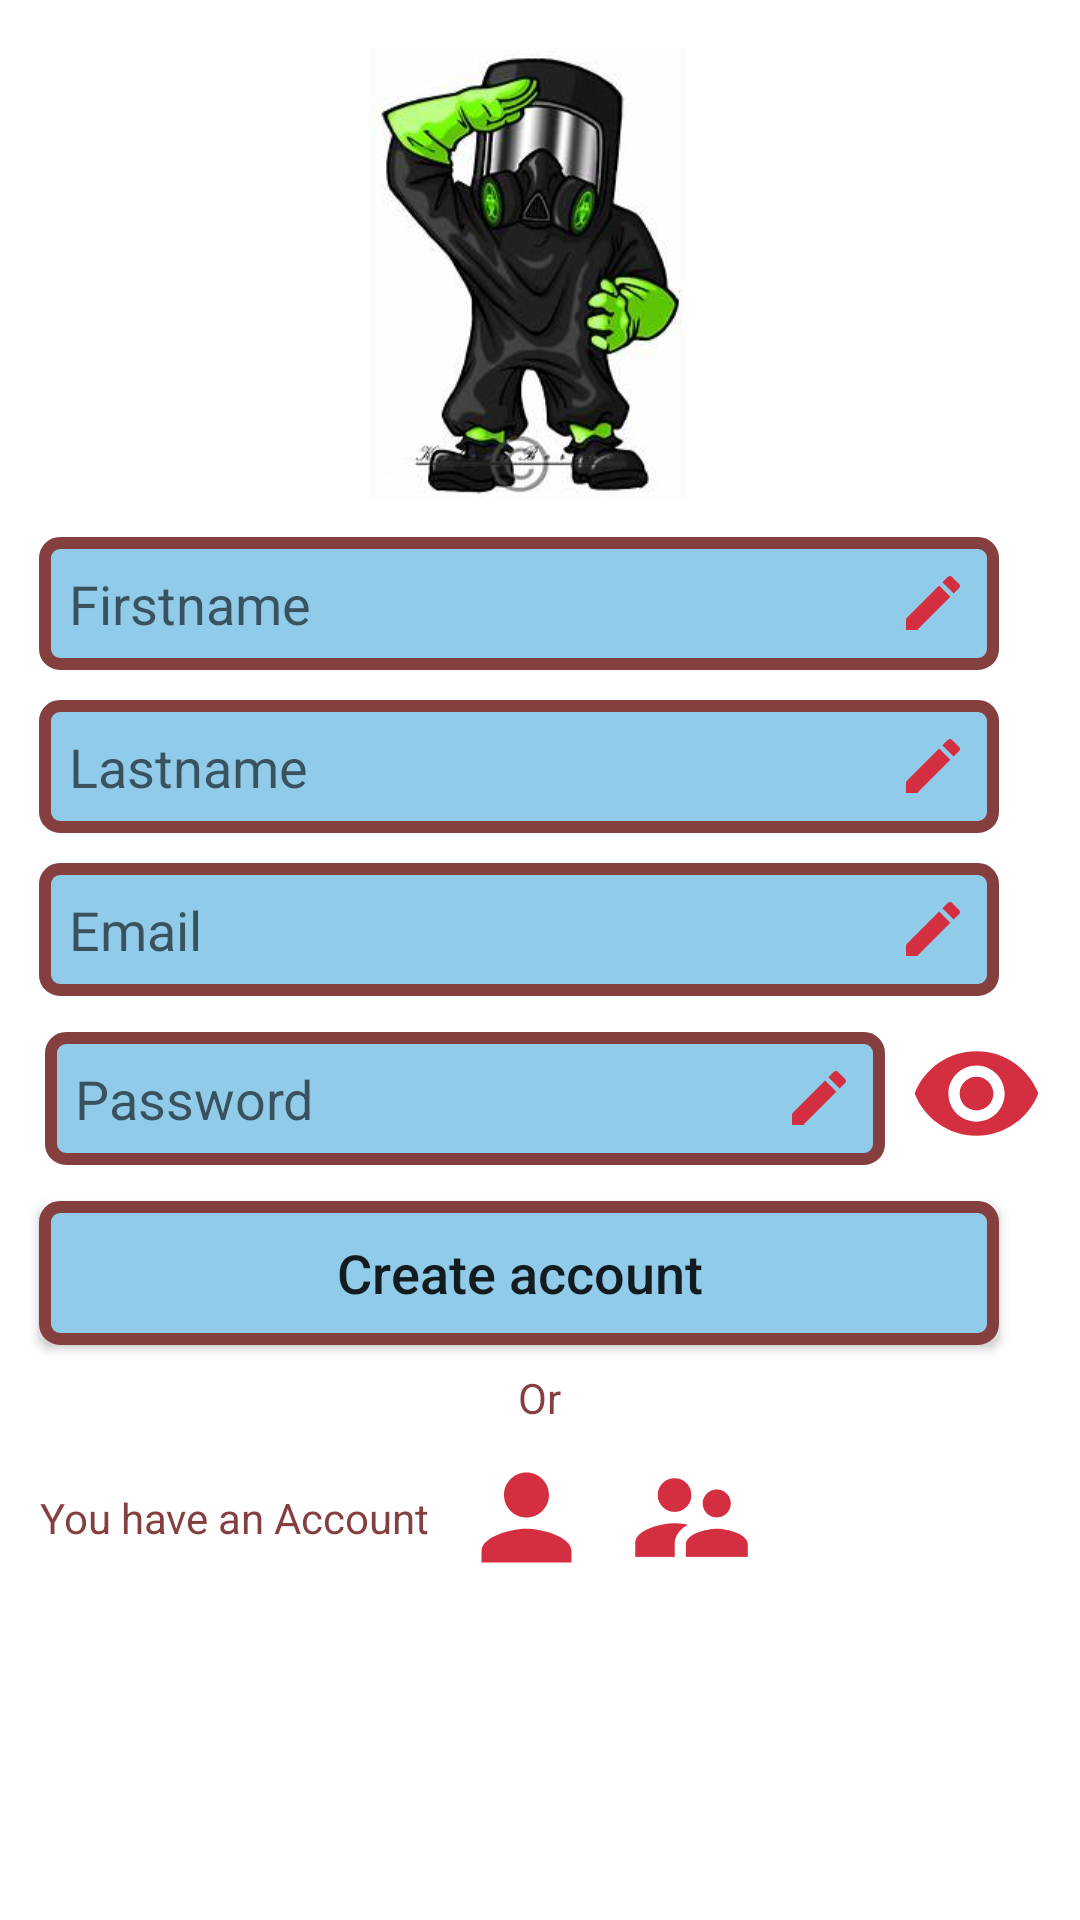

Named icons in this screenshot (1080×1920) and their centers, [x,y]:
show: [976,1093]
user: [526,1517]
users: [691,1517]
